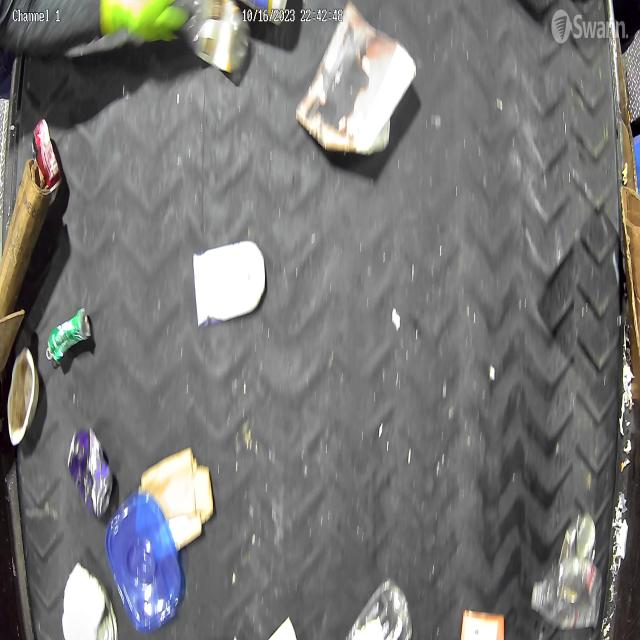can: (66, 425, 113, 520), (7, 348, 40, 449), (560, 512, 598, 590), (46, 308, 90, 364)
plastic_bottle: (532, 558, 600, 630)
